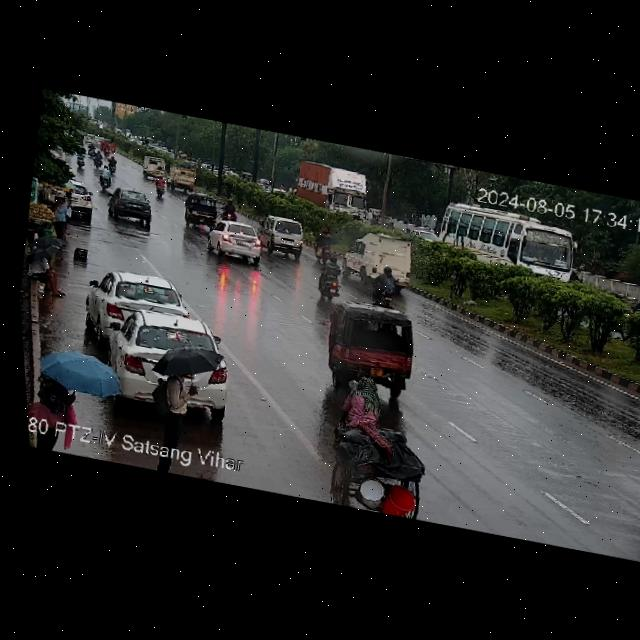bus: (430, 197, 586, 287)
car: (323, 373, 441, 520), (319, 297, 431, 390), (103, 305, 224, 381), (83, 264, 194, 342), (202, 218, 270, 266), (102, 185, 162, 228), (260, 213, 311, 255), (42, 177, 97, 215), (178, 189, 222, 228), (98, 138, 118, 151), (92, 136, 103, 145), (84, 134, 94, 142)
motorcycle: (366, 266, 408, 309), (312, 248, 345, 300), (310, 221, 337, 263), (95, 162, 113, 192), (151, 173, 167, 197), (105, 153, 120, 174), (91, 149, 103, 169), (75, 150, 87, 168), (86, 142, 96, 156), (634, 294, 640, 313), (102, 144, 110, 157)
person: (154, 365, 197, 440), (34, 367, 83, 424), (21, 251, 67, 294), (47, 193, 71, 239), (61, 190, 75, 217)
truck: (335, 226, 427, 294), (290, 154, 372, 220), (160, 157, 202, 193), (139, 155, 163, 180)
